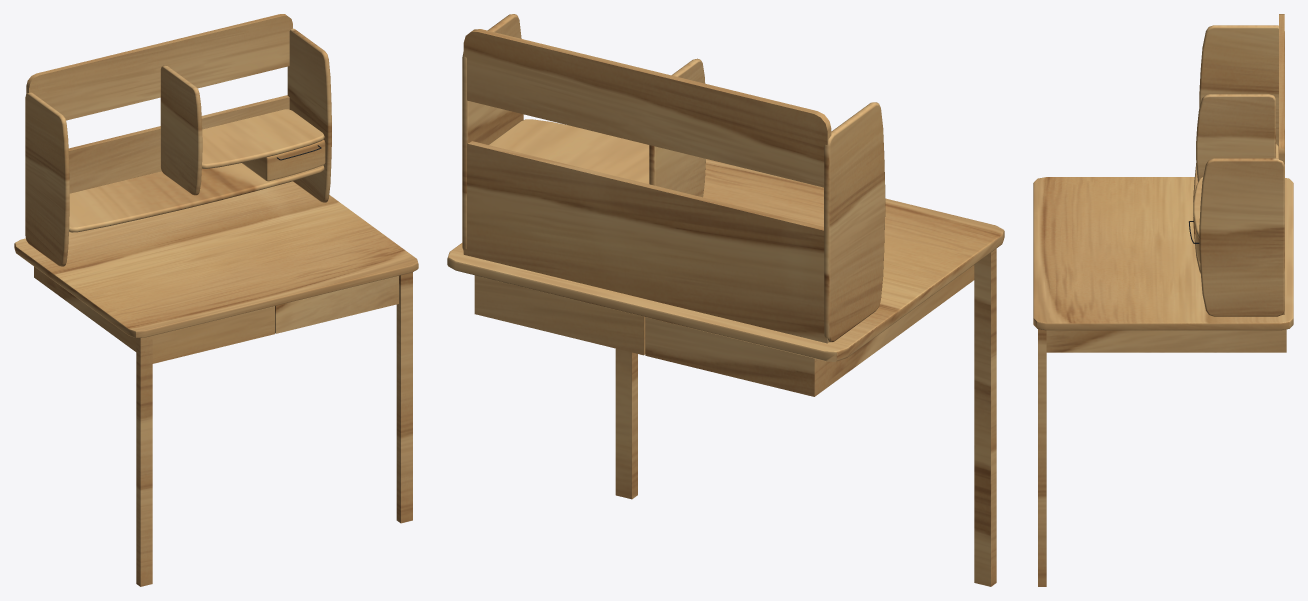
Rendered from stage1_5.fbx.
3 views of the same model, side by side, from view 1: azimuth 30°, elevation 25°; view 2: azimuth 150°, elevation 25°; view 3: azimuth 270°, elevation 25° (orthographic). The views are drawn at different scales.
Parts seen in each view (by area): view 1: desk1; view 2: desk1; view 3: desk1.
Part boxes in pixels (bbox=[...]): desk1: bbox=[14, 14, 418, 586]; desk1: bbox=[447, 14, 1004, 586]; desk1: bbox=[1033, 14, 1293, 586].
Size of the model in its own units: 1200 by 1680 by 900.
Materials: 2 (2 with a texture image).
